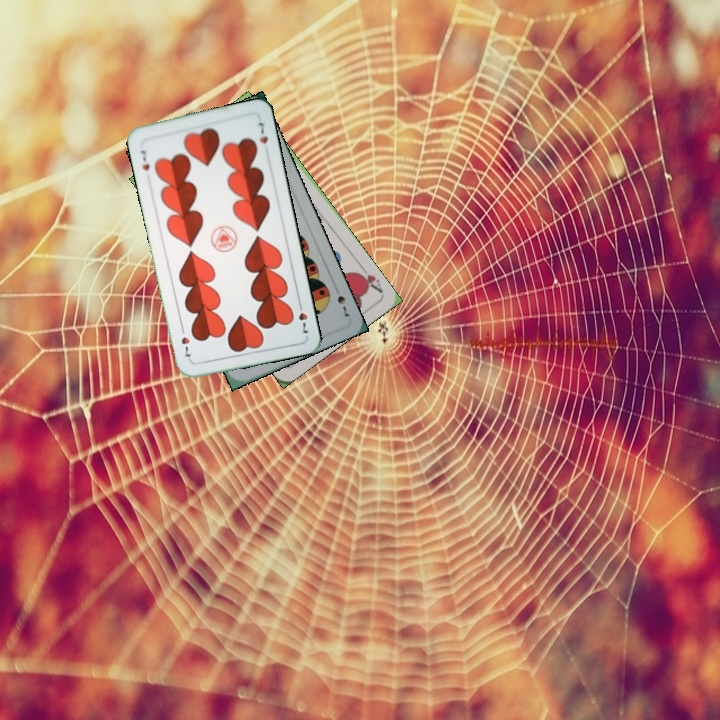H7: (294, 298, 311, 336), (137, 146, 152, 173)
HA: (352, 261, 386, 296)
S7: (330, 282, 352, 320)
